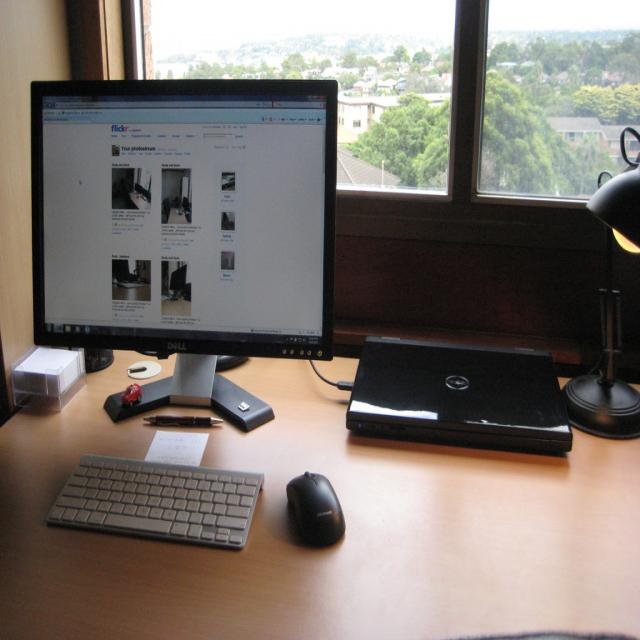desk: (0, 348, 639, 639)
keyboard: (46, 453, 264, 551)
laptop: (345, 336, 573, 461)
mouse: (284, 471, 345, 547)
tv: (29, 77, 340, 363)
